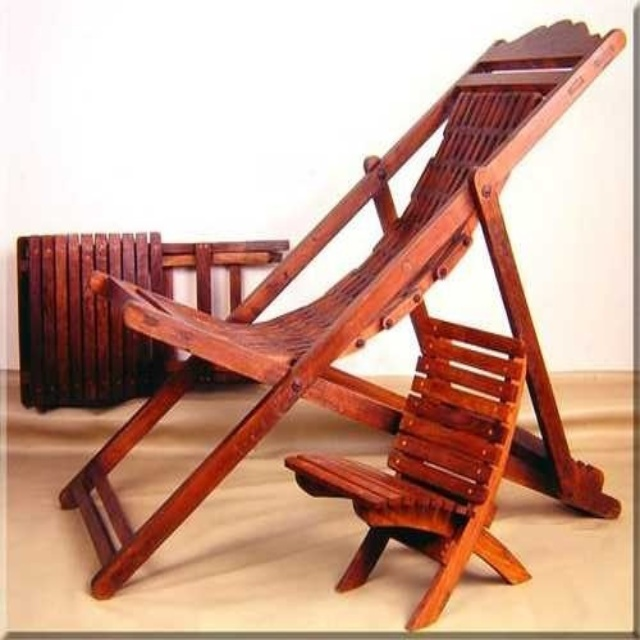obstacle: (60, 21, 625, 627)
